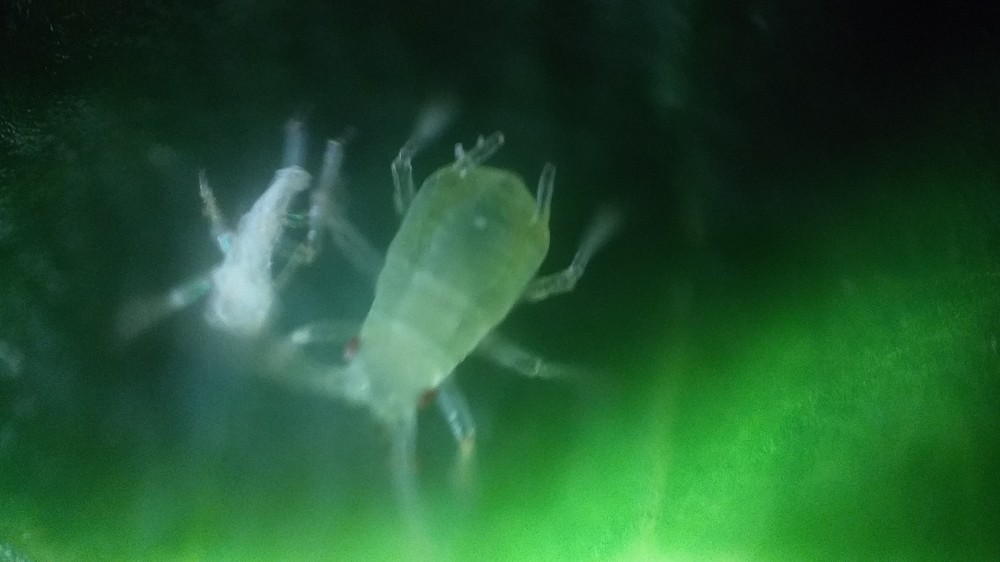Pulgon: (281, 104, 640, 522)
